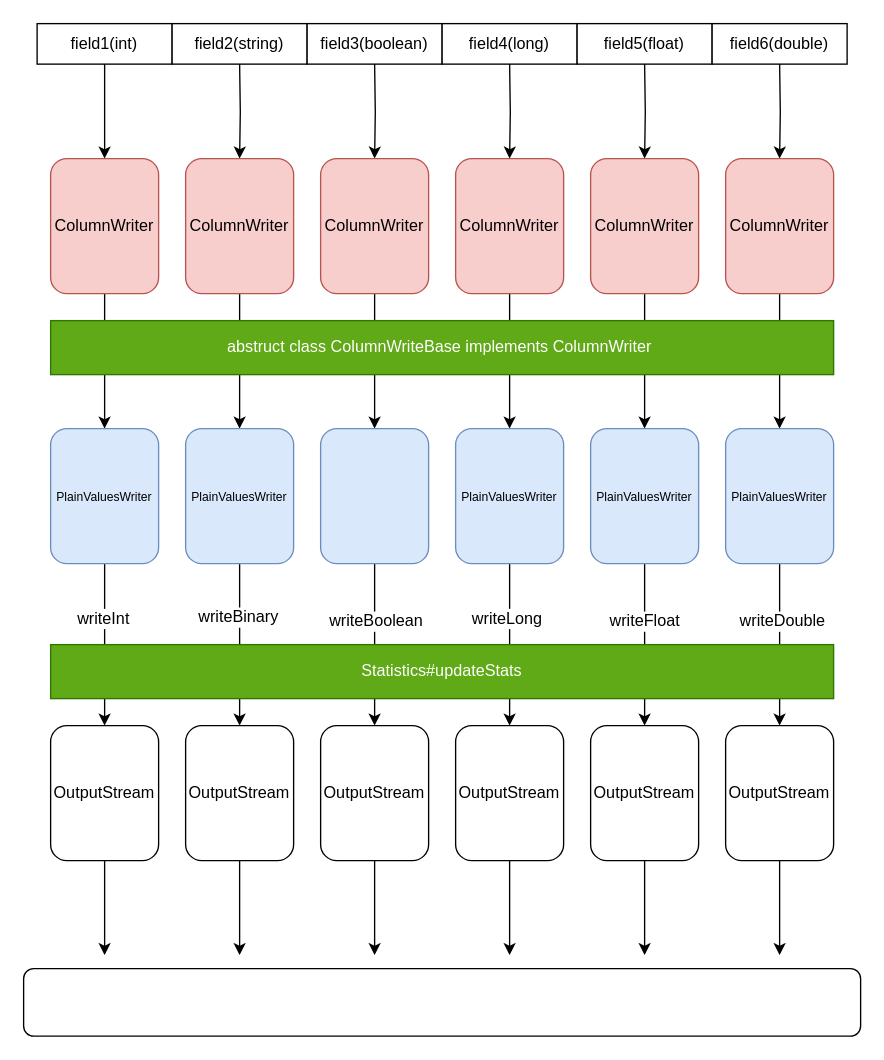
Some shapes in this 884 by 1060 pixel diagram are drawn without their labels. The shapes that lost their labels are listed below. From the top down, each one's centre as x and y in pixels, then its label:
At pixel 374 495: "BooleanPlainValues Writer".
At pixel 441 1001: "parquet file".
